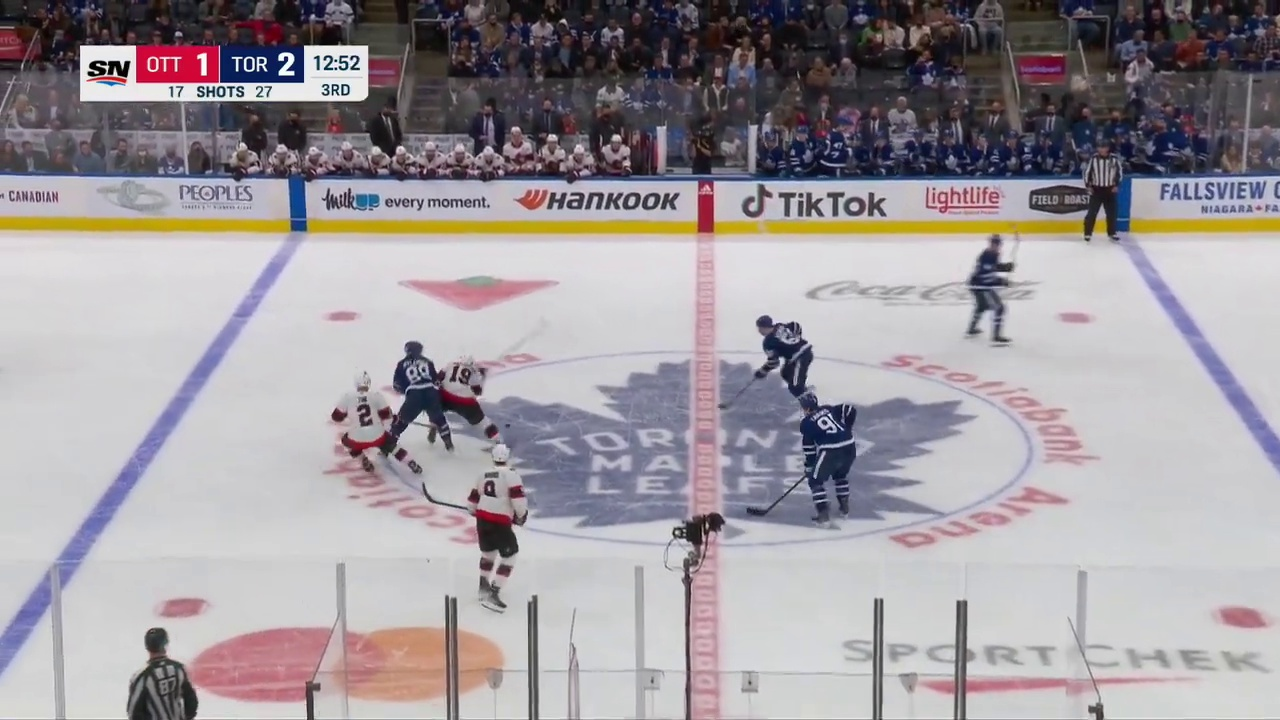hockeyplayer: (467, 443, 529, 614), (331, 370, 424, 477), (378, 341, 455, 458), (798, 392, 857, 528), (426, 354, 504, 456), (965, 233, 1012, 348), (755, 315, 814, 400)
referee: (127, 628, 198, 720), (1083, 139, 1123, 244)
